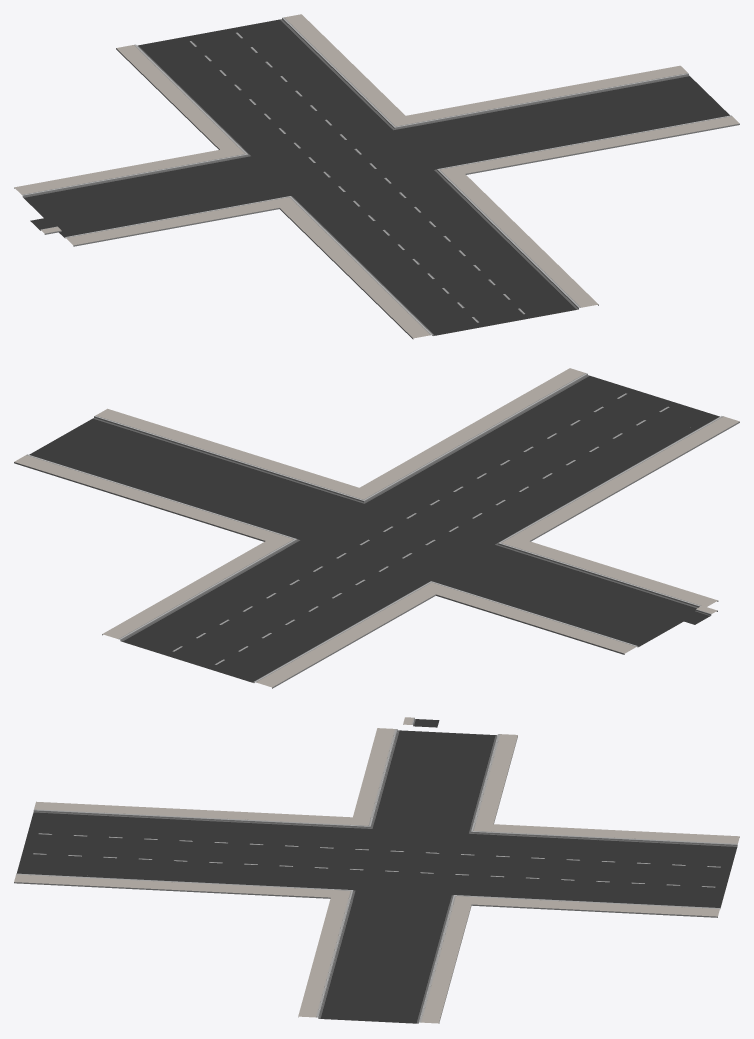
The model's file is Road1.fbx.
3 views of the same model, one above another, from view 1: azimuth 30°, elevation 25°; view 2: azimuth 150°, elevation 25°; view 3: azimuth 270°, elevation 25° (orthographic). The views are drawn at different scales.
Visible parts, largest first — view 1: Road1; view 2: Road1; view 3: Road1.
Boxes of the visible parts, left/top/right/bottom form: Road1: left=14, top=14, right=739, bottom=339; Road1: left=14, top=368, right=739, bottom=688; Road1: left=14, top=717, right=739, bottom=1023.
Bounding box in the file's own units: 101 × 0.8648 × 102.
